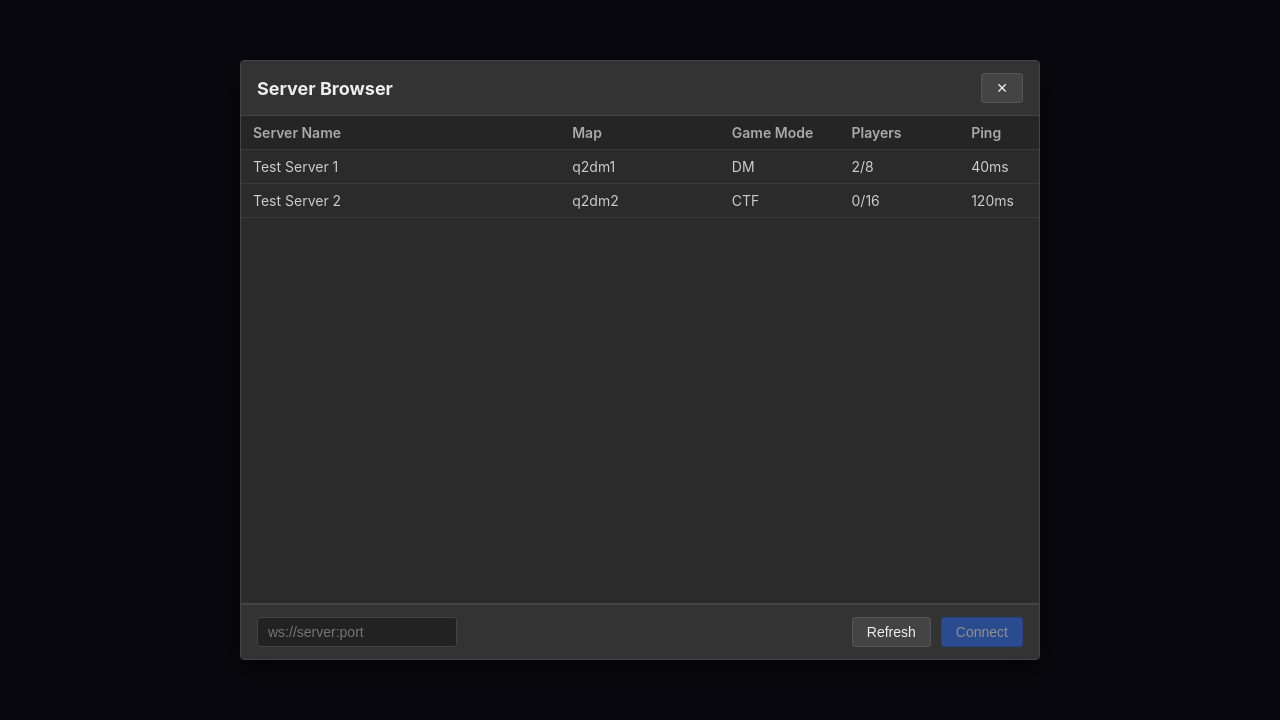
Test case: ServerBrowser › selects server on click
Step 1. Click the row with test id "server-row-ws://test1.com" → (640, 166), box [241,150,1039,184]
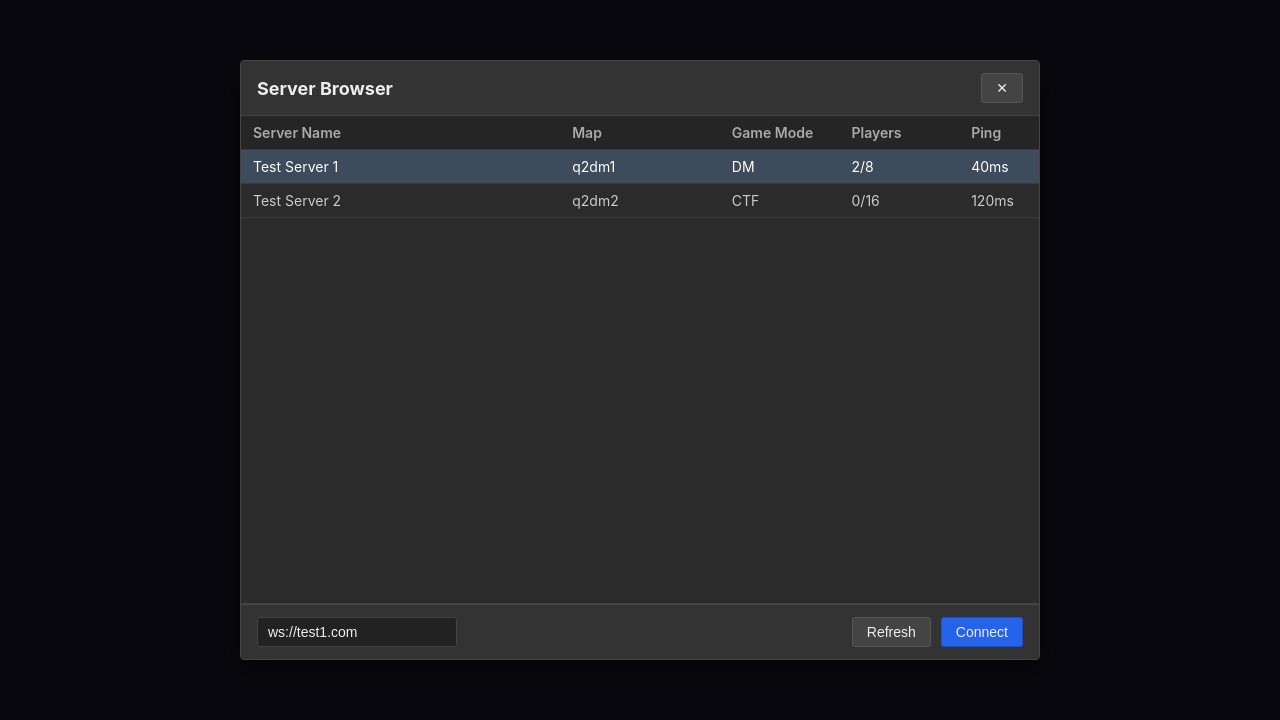
expect the field with test id "manual-address-input" holds "ws://test1.com": met, box [257,617,457,647]
